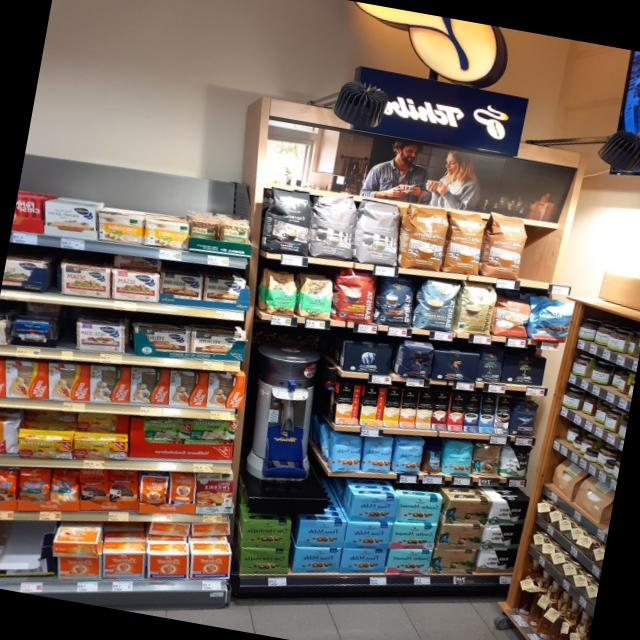AB Gemahlen: (342, 340, 393, 375)
Athiopien Bohne: (263, 271, 300, 316)
Athiopien Gemahlen: (297, 276, 337, 321)
BM Bohne: (475, 348, 504, 382)
BM Gemahlen: (501, 354, 547, 386)
BW Bohne: (499, 444, 532, 478)
BW Gemahlen: (486, 500, 530, 526), (480, 526, 524, 550), (476, 550, 519, 573)
Barista CB: (453, 283, 499, 336)
Barista CC: (412, 277, 461, 331)
Barista Espresso: (372, 276, 419, 327)
Barista Kolumbien: (332, 268, 379, 324)
C Fino Bohne: (509, 399, 542, 437)
CC Vollmundig: (491, 295, 532, 338)
CC Vollmundig 36 Pads: (481, 210, 531, 281), (398, 202, 448, 273)
Colombia BB Bohne: (472, 441, 502, 477)
Colombia BB Gemahlen: (443, 499, 493, 524), (435, 524, 482, 550), (430, 549, 477, 574)
Espresso Aromatisch: (308, 191, 360, 262), (353, 198, 404, 268)
Espresso Kraftig: (264, 187, 313, 257)
FM 36 Pads: (528, 296, 573, 344)
FM Bohne: (330, 433, 363, 472), (360, 437, 394, 473), (392, 437, 425, 474)
FM Gemahlen: (441, 207, 489, 277), (350, 494, 399, 523), (343, 522, 393, 550), (296, 520, 346, 547), (292, 547, 341, 573), (339, 548, 388, 574)
FM Instant: (420, 444, 443, 473)
Herzhatfe Mundig: (240, 518, 290, 549), (239, 547, 290, 574)
LG Bohne: (397, 341, 434, 379)
LG Gemahlen: (431, 350, 478, 382)
SM Bohne: (441, 438, 474, 475)
SM Gemahlen: (393, 494, 441, 523), (386, 548, 433, 575), (390, 522, 436, 549)
Simo CCMild: (358, 386, 386, 425)
Simo CCMild bigpack: (383, 387, 402, 428)
Simo CCVollmundig: (334, 382, 361, 425)
Simo CCVollmundig bigpack: (399, 388, 418, 428)
Simo Decaff: (415, 390, 435, 429)
Simo Es Brazil: (447, 392, 466, 432)
Simo Es Caramel: (431, 390, 450, 430)
Simo Es Elegant: (493, 395, 512, 435)
Simo Es Kraft: (462, 394, 482, 433)
Simo Es Vanilla: (478, 394, 497, 434)
